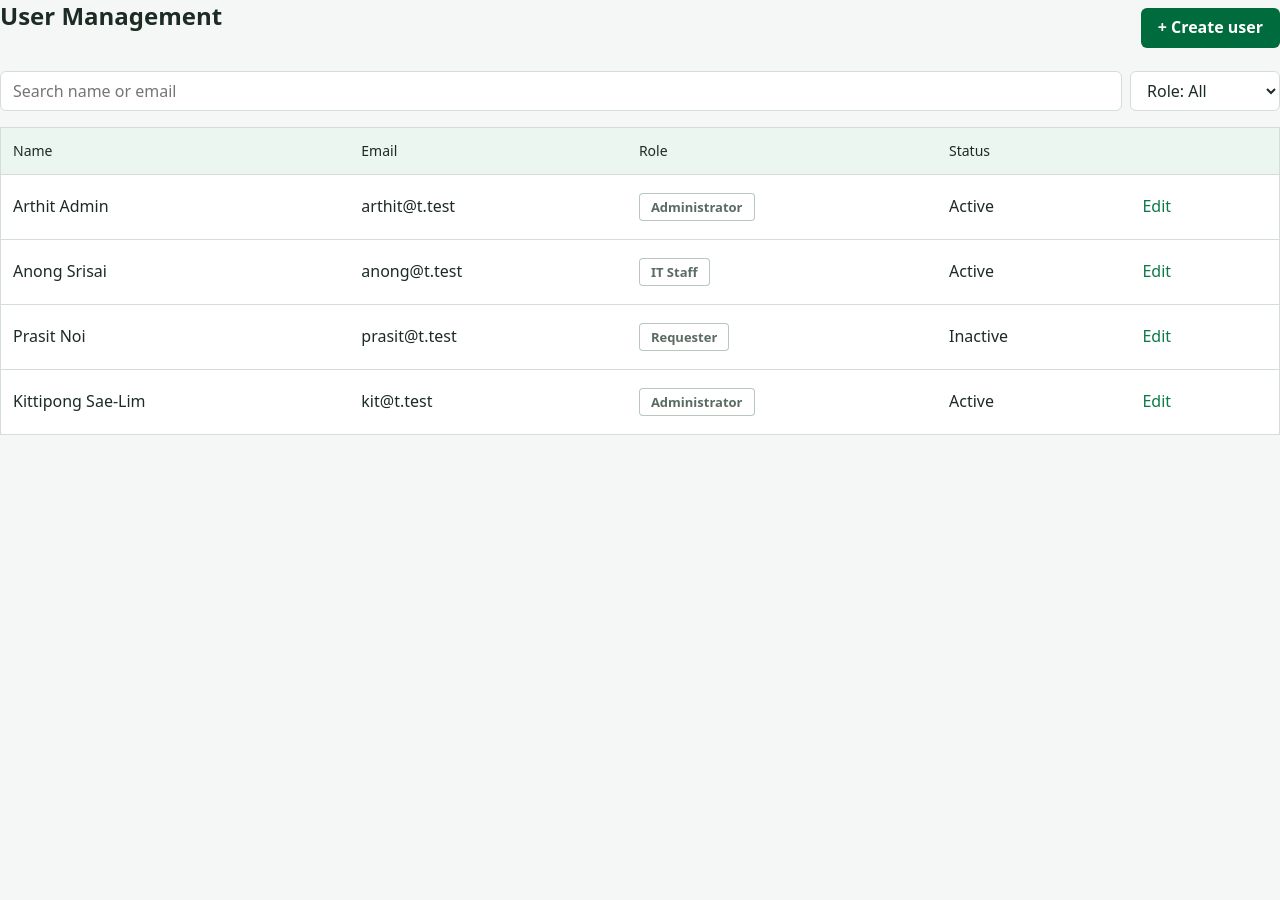
Scenario: User Management › anticipates the self-guards: your own Role and Status are disabled with an explanation
The width and height of the screenshot is (1280, 900).
Click the button with aria-label "Edit Arthit Admin".
click(1157, 207)  # box [1133,187,1180,227]
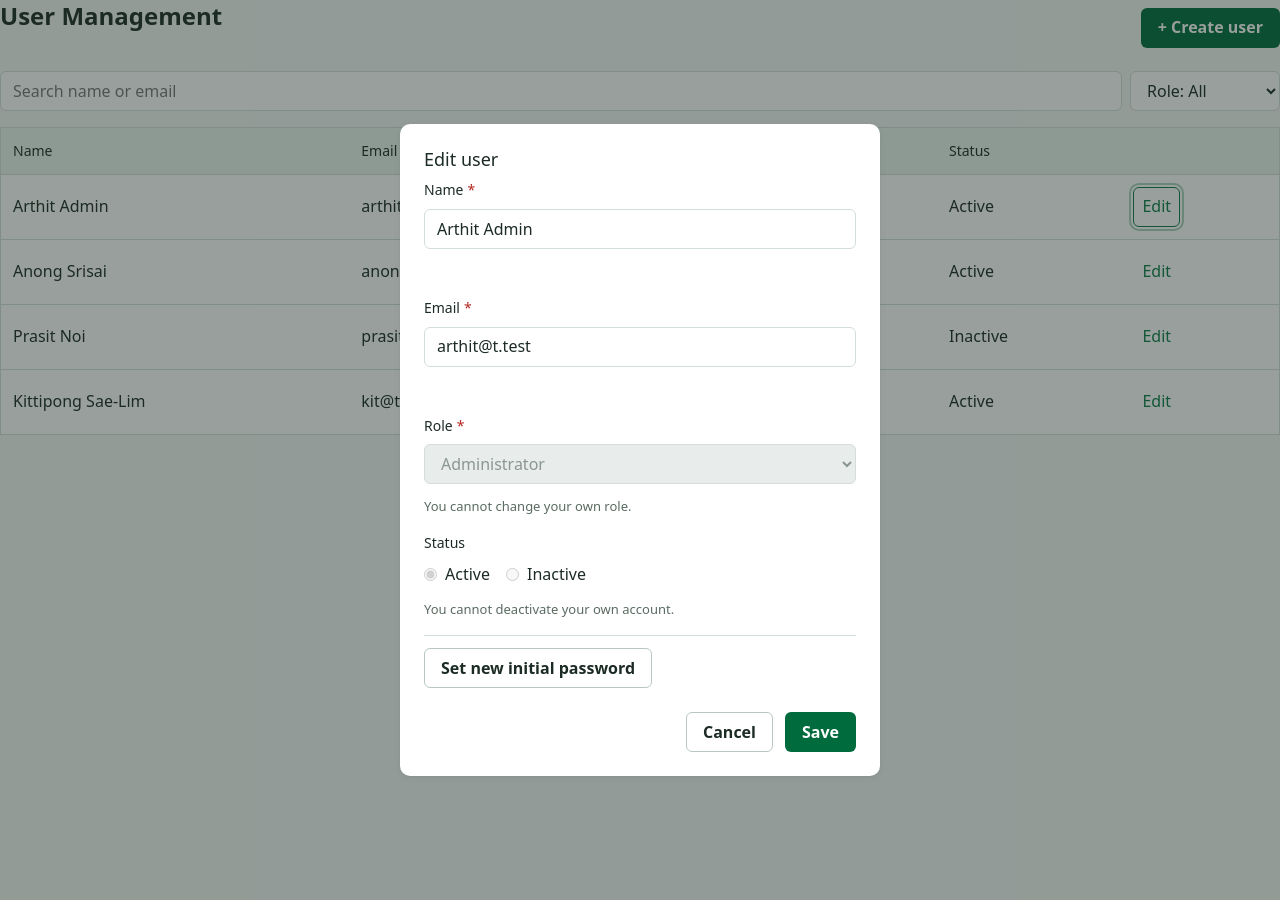
Now the dropdown labelled "Role*" is disabled, box [424,444,856,484]
Now the radio button labelled "Inactive" is disabled, box [506,568,519,581]
Now the text "You cannot deactivate your own account." is shown, box [424,600,674,618]
